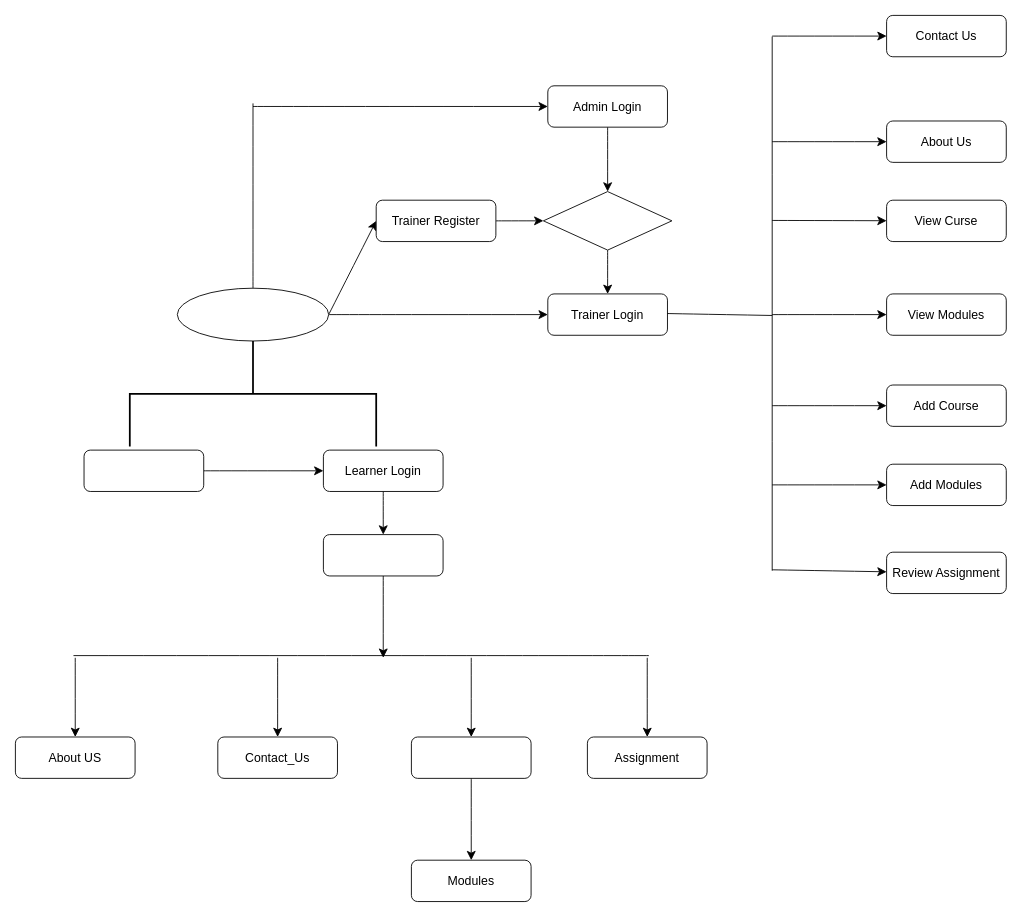
The diagram is 1022 pixels wide and 917 high, and some of its shapes have lost their labels. Each missing label, with the centre of its shape:
Admin Approved?: the point at 607,220
Courses: the point at 471,757
Learner Register: the point at 143,470
Learner welcome page: the point at 383,555
Welcome Page: the point at 252,314
